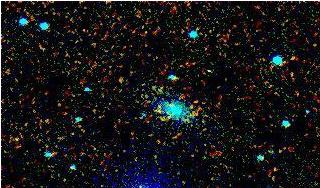star: (147, 93, 177, 123)
